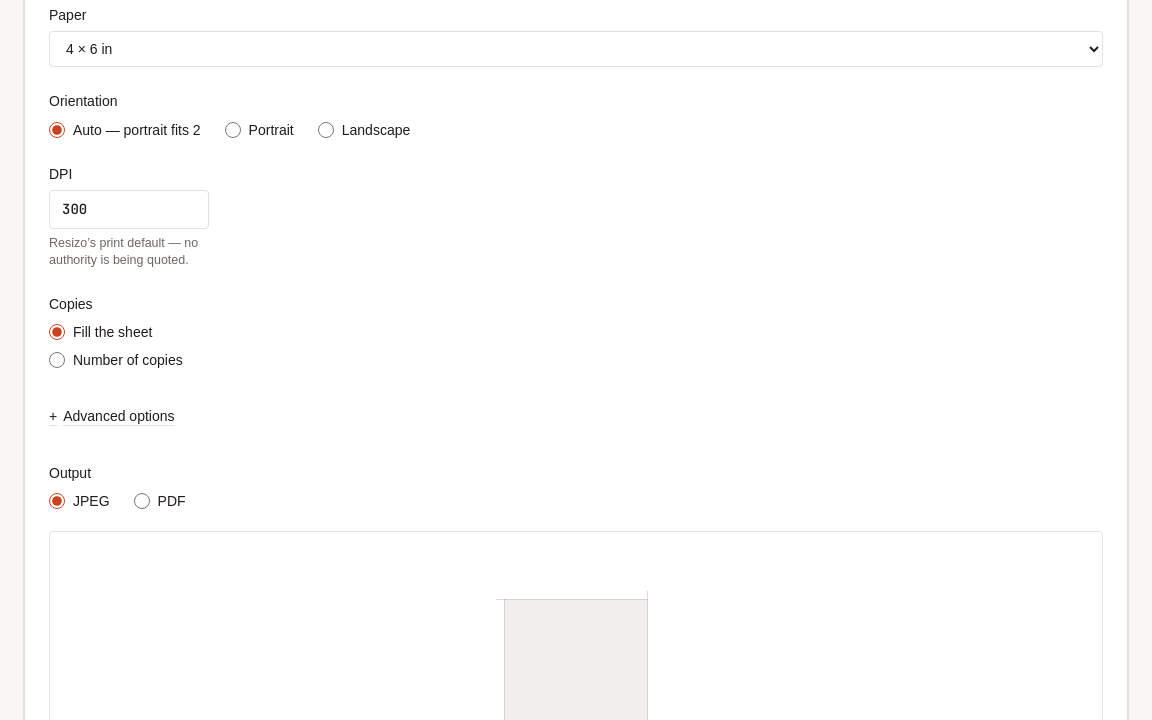
Test: copies › reveals #sheet-copies once Number of copies is chosen
The width and height of the screenshot is (1152, 720).
(page scrolled)
Click the radio button labelled "Number of copies": [57, 360] box [49,352,65,368]
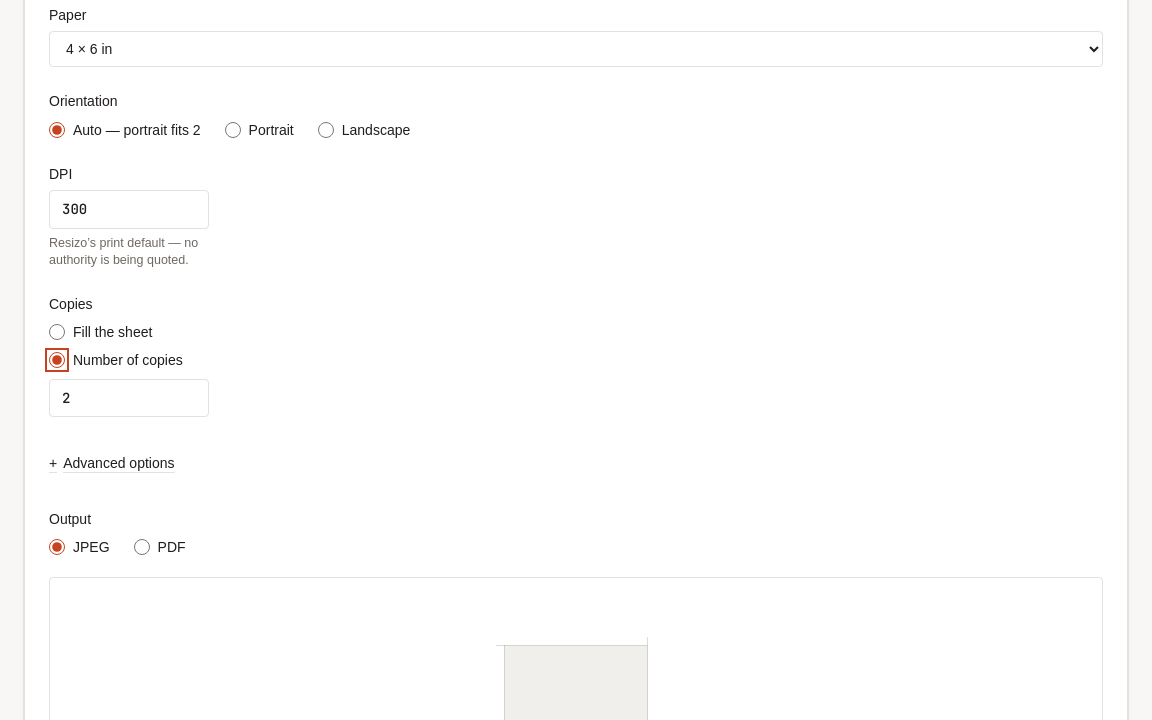
Expected: the number field with id "sheet-copies" is shown, [49,378,209,417]
